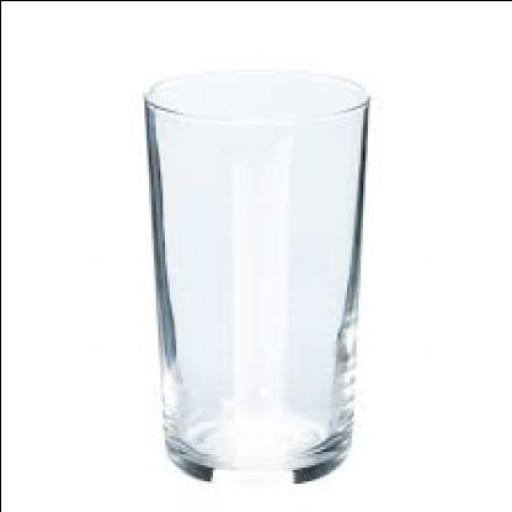glass: (139, 66, 366, 482)
